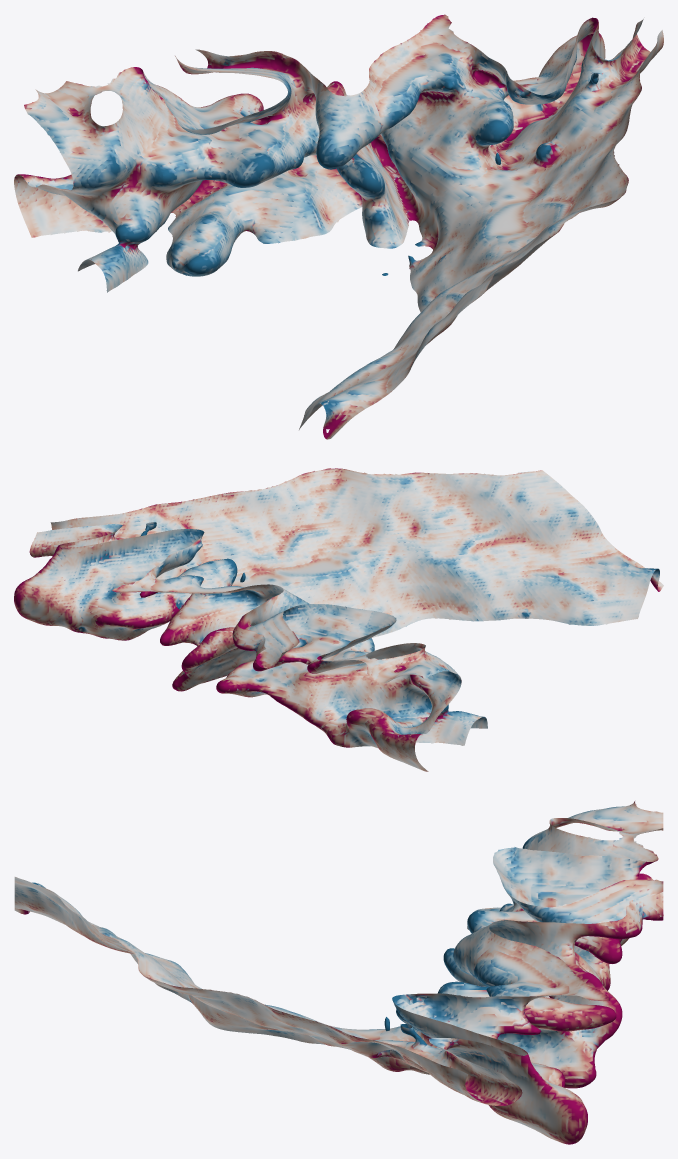
The model's file is crop1148_curvature.glb.
The picture shows the model from 3 angles, top to bottom: view 1: azimuth 30°, elevation 25°; view 2: azimuth 150°, elevation 25°; view 3: azimuth 270°, elevation 25°; orthographic projection. The views are drawn at different scales.
Parts seen in each view (by area): view 1: geometry_0; view 2: geometry_0; view 3: geometry_0.
Boxes of the visible parts, x1,y1,x2,y2 form: geometry_0: [14, 14, 663, 439]; geometry_0: [14, 468, 663, 771]; geometry_0: [14, 801, 663, 1144].
Bounding box in the file's own units: 3076 × 680 × 3079.
